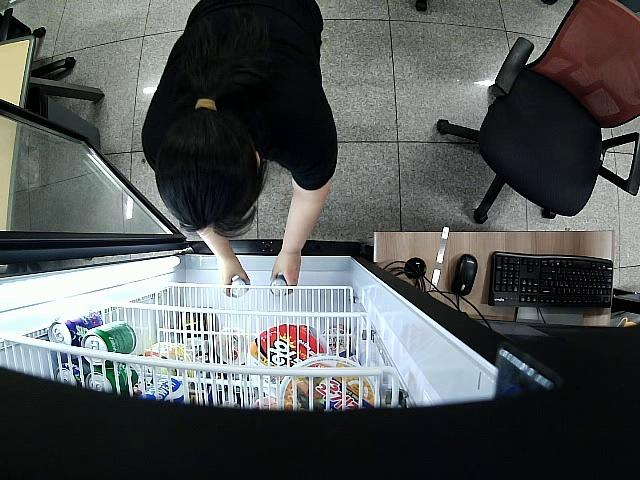00_hand: (267, 253, 303, 295), (216, 260, 250, 298)
